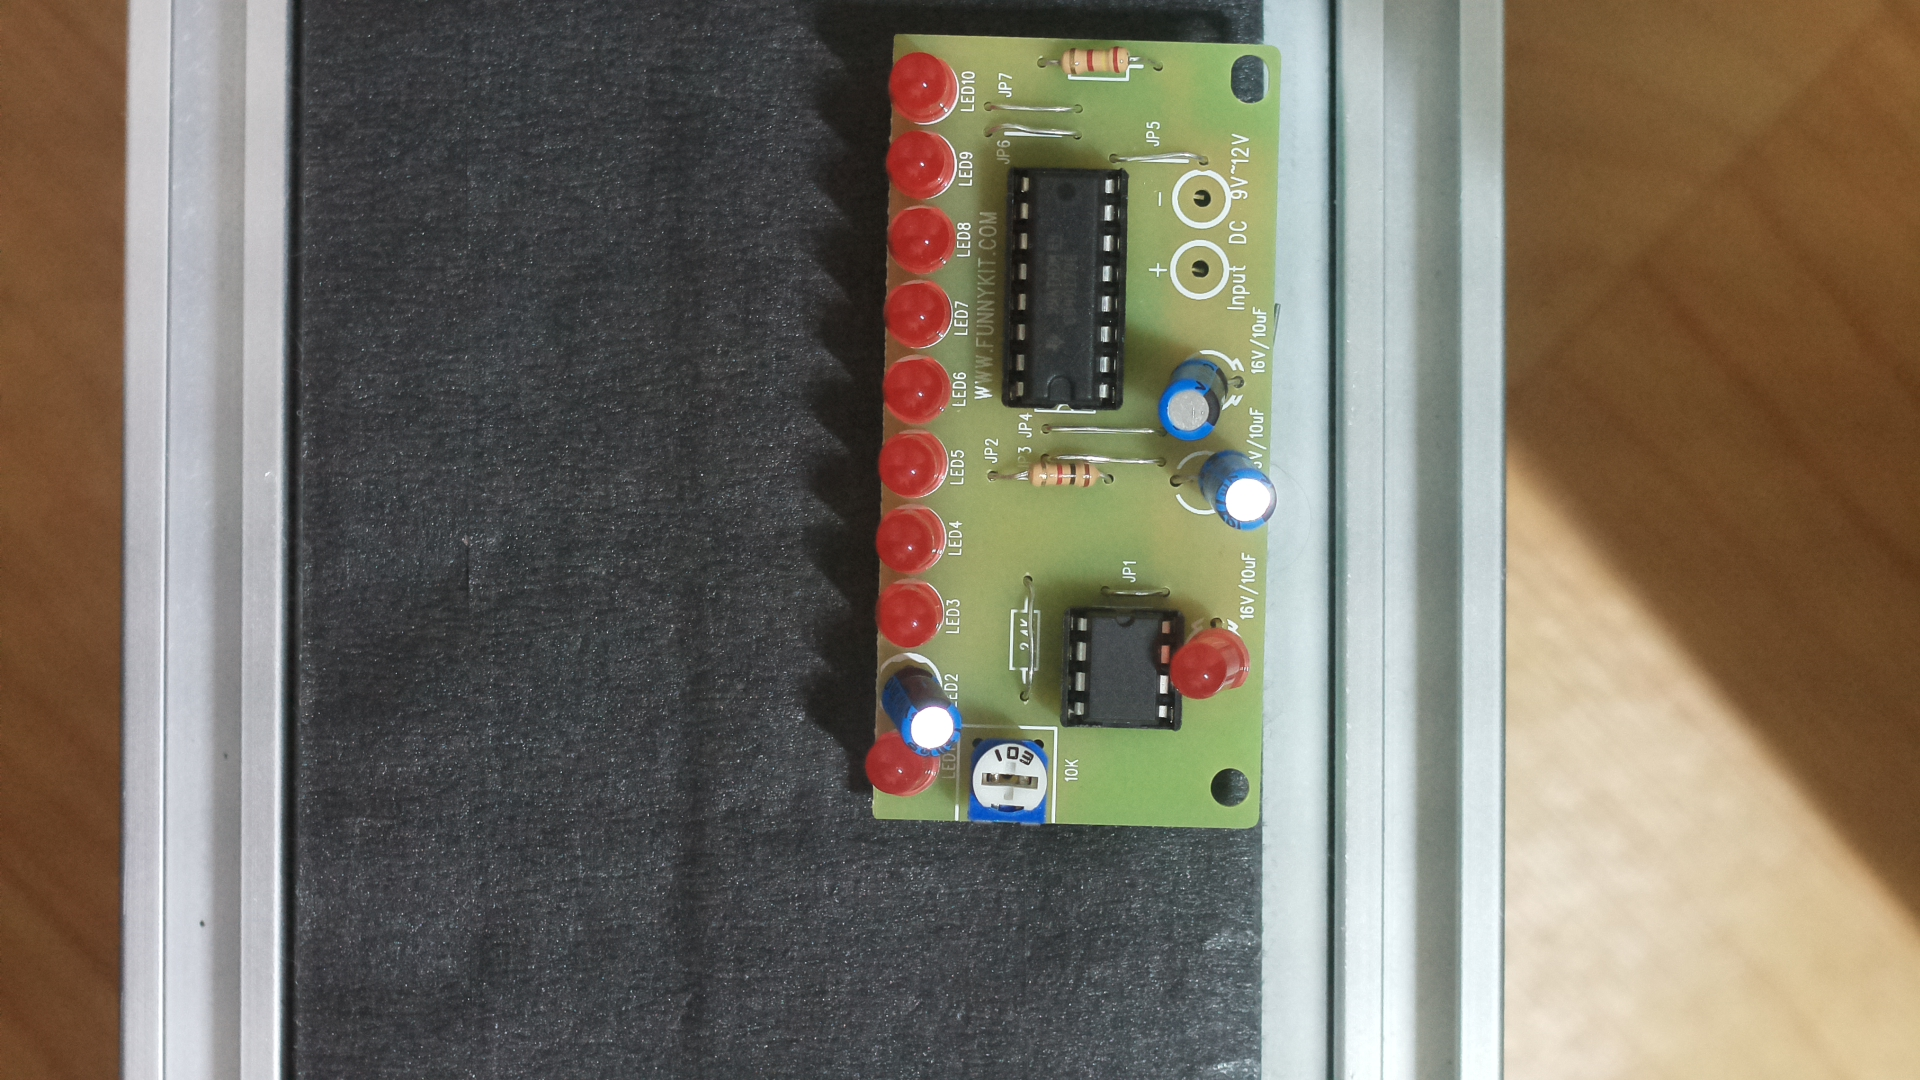B_Misordered: (844, 24, 1296, 858)
